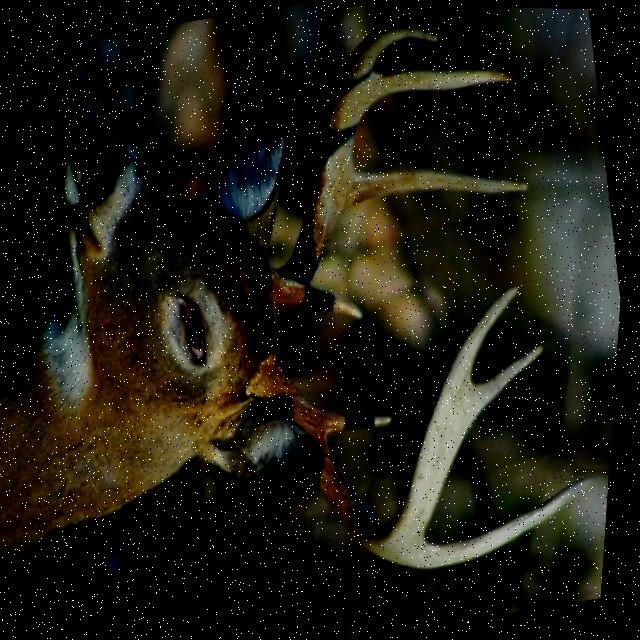E1: (475, 343, 547, 423)
L-F: (251, 285, 522, 557)
L-G1: (327, 409, 396, 432)
L-G2: (408, 471, 602, 568)
R-F: (274, 20, 438, 303)
R-G1: (302, 285, 366, 318)
R-G2: (346, 158, 530, 209)
R-G3: (369, 66, 517, 103)
